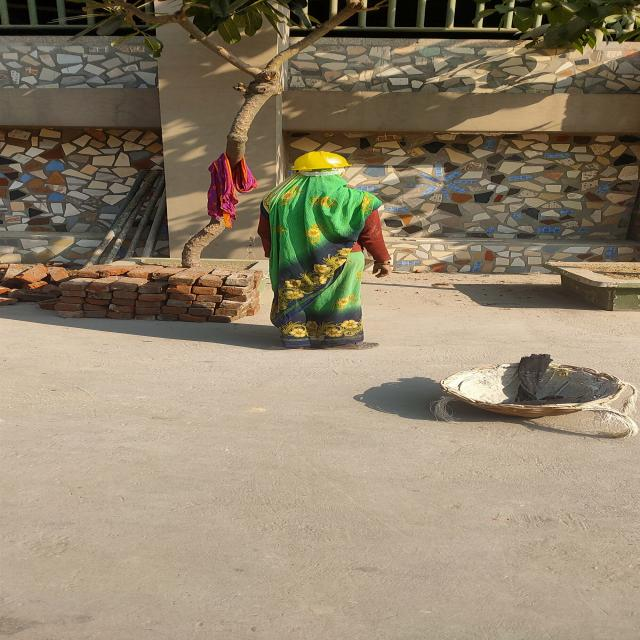no jacket: (258, 150, 392, 350)
